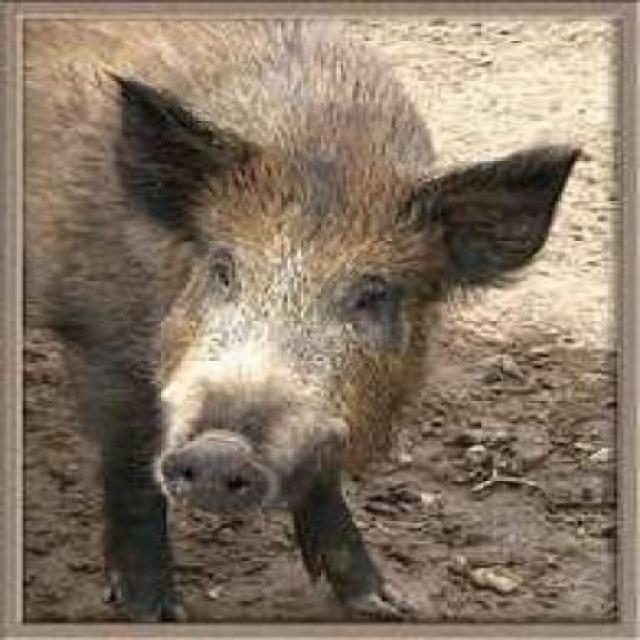pig: (0, 0, 574, 629)
